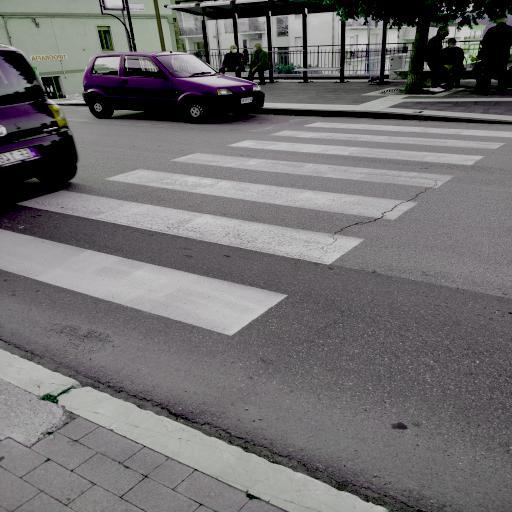crosswalk: (8, 165, 426, 269)
